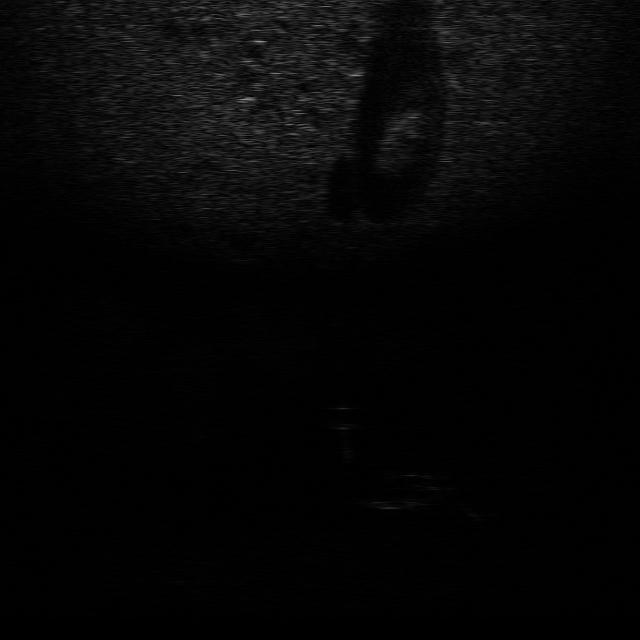ball: (316, 401, 366, 431)
tyre: (358, 469, 442, 514)
